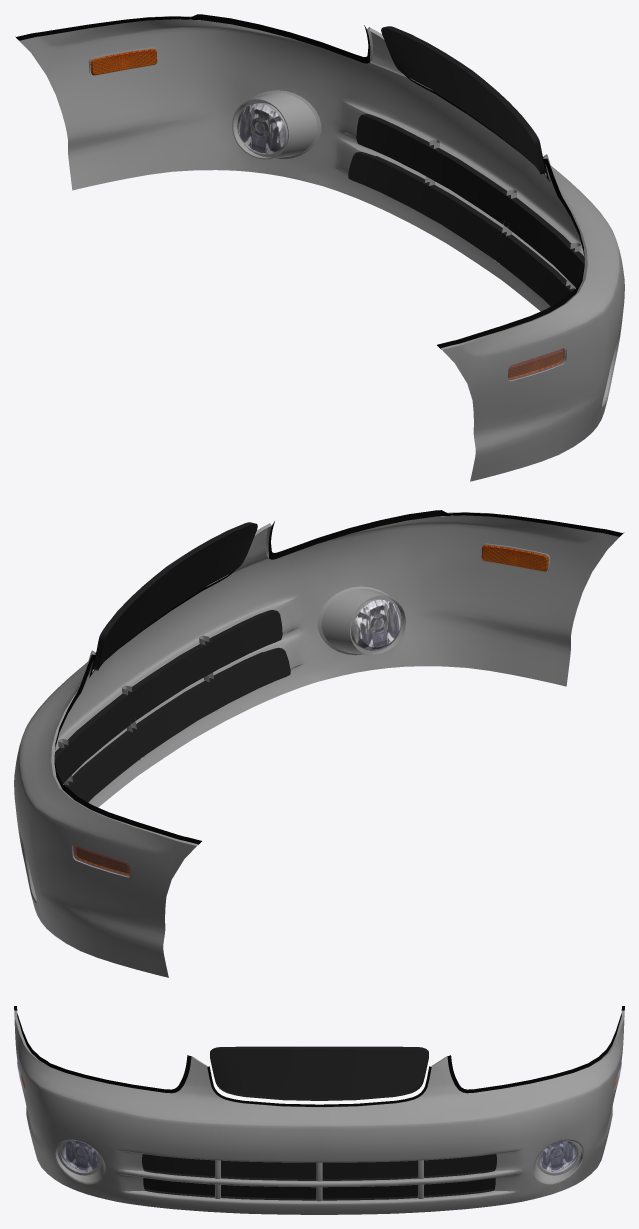
The picture shows the model from 3 angles, top to bottom: view 1: azimuth 30°, elevation 25°; view 2: azimuth 150°, elevation 25°; view 3: azimuth 270°, elevation 25°; orthographic projection. The views are drawn at different scales.
Parts seen in each view (by area): view 1: E232_021G_C_E232_021G_C_6_DaS, E232_021G_C_E232_021G_C_5_D, E232_021G_C_E232_021G_C_11_D, E232_021G_C_E232_021G_C_6_DaS_E, E232_021G_C_E232_021G_C_3_N, E232_021G_C_E232_021G_C_2_N, E232_021G_C_E232_021G_C_8_DTaSI, E232_021G_C_1_N_E232_021G_C; view 2: E232_021G_C_E232_021G_C_6_DaS, E232_021G_C_E232_021G_C_5_D, E232_021G_C_E232_021G_C_11_D, E232_021G_C_E232_021G_C_6_DaS_E, E232_021G_C_E232_021G_C_4_N, E232_021G_C_1_N_E232_021G_C, E232_021G_C_E232_021G_C_9_DTaSI, E232_021G_C_E232_021G_C_2_N; view 3: E232_021G_C_E232_021G_C_6_DaS, E232_021G_C_E232_021G_C_5_D, E232_021G_C_E232_021G_C_11_D, E232_021G_C_E232_021G_C_6_DaS_E, E232_021G_C_E232_021G_C_3_N, E232_021G_C_E232_021G_C_4_N, E232_021G_C_E232_021G_C_7_DTaSI, E232_021G_C_E232_021G_C_10_DTaSI.
Part boxes in pixels (x1,y1,x2,y2): E232_021G_C_E232_021G_C_6_DaS: (18, 19, 624, 481); E232_021G_C_E232_021G_C_5_D: (348, 26, 584, 306); E232_021G_C_E232_021G_C_11_D: (15, 14, 584, 349); E232_021G_C_E232_021G_C_6_DaS_E: (88, 16, 619, 406); E232_021G_C_E232_021G_C_3_N: (237, 103, 286, 154); E232_021G_C_E232_021G_C_2_N: (90, 48, 157, 75); E232_021G_C_E232_021G_C_8_DTaSI: (508, 348, 565, 380); E232_021G_C_1_N_E232_021G_C: (508, 348, 564, 379); E232_021G_C_E232_021G_C_6_DaS: (14, 515, 620, 977); E232_021G_C_E232_021G_C_5_D: (54, 522, 290, 802); E232_021G_C_E232_021G_C_11_D: (54, 510, 624, 844); E232_021G_C_E232_021G_C_6_DaS_E: (18, 512, 550, 903); E232_021G_C_E232_021G_C_4_N: (352, 599, 401, 650); E232_021G_C_1_N_E232_021G_C: (481, 545, 548, 571); E232_021G_C_E232_021G_C_9_DTaSI: (73, 845, 130, 876); E232_021G_C_E232_021G_C_2_N: (74, 844, 130, 875); E232_021G_C_E232_021G_C_6_DaS: (14, 1018, 624, 1214); E232_021G_C_E232_021G_C_5_D: (142, 1046, 496, 1200); E232_021G_C_E232_021G_C_11_D: (14, 1006, 624, 1106); E232_021G_C_E232_021G_C_6_DaS_E: (14, 1010, 624, 1184); E232_021G_C_E232_021G_C_3_N: (539, 1140, 578, 1172); E232_021G_C_E232_021G_C_4_N: (60, 1140, 99, 1172); E232_021G_C_E232_021G_C_7_DTaSI: (61, 1140, 99, 1171); E232_021G_C_E232_021G_C_10_DTaSI: (539, 1140, 577, 1171).
Bounding box in the file's own units: 82.2 × 57.17 × 203.
